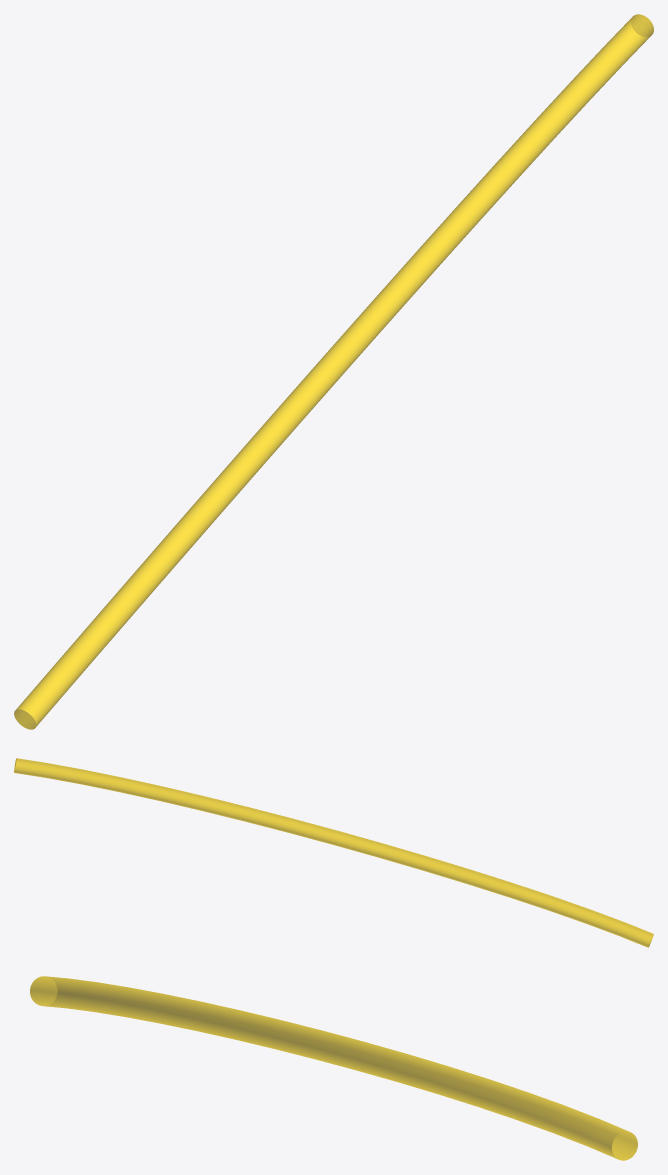
File: Event_100608114_track_39.fbx
3 renders of one model, top to bottom at view 1: azimuth 30°, elevation 25°; view 2: azimuth 150°, elevation 25°; view 3: azimuth 270°, elevation 25°, orthographic. The views are drawn at different scales.
Visible parts, largest first — view 1: Model; view 2: Model; view 3: Model.
Part boxes in pixels (<box>): Model: <box>14,14,653,729</box>; Model: <box>14,758,653,947</box>; Model: <box>30,976,637,1160</box>.
Bounding box in the file's own units: 1.53 × 0.5156 × 0.8119.
